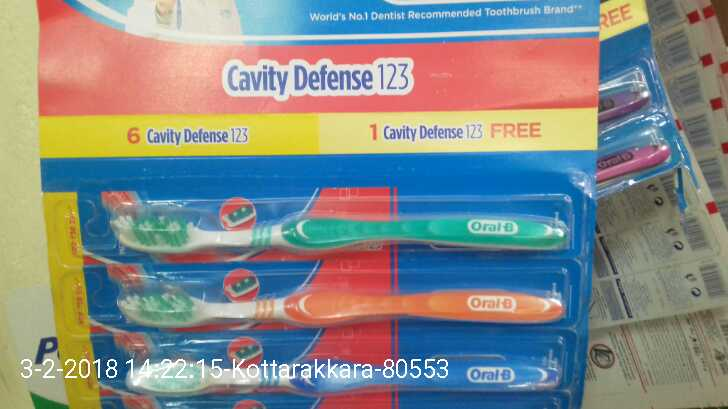oralb: (41, 184, 583, 260), (52, 264, 585, 327)
